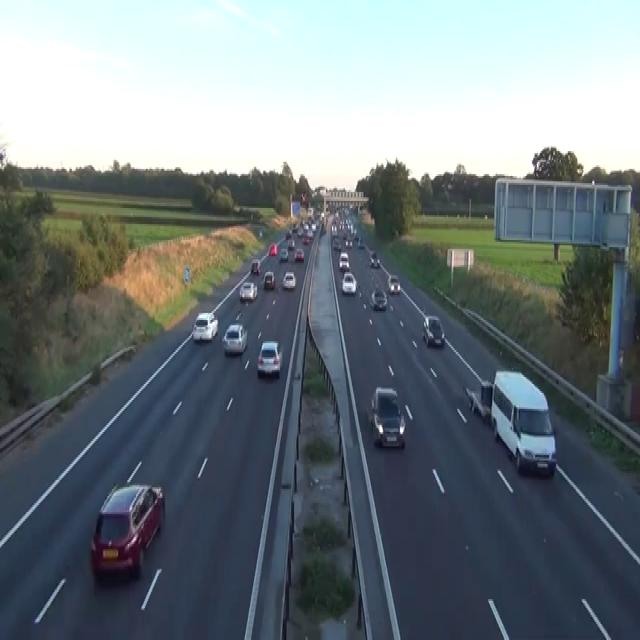Car: (90, 482, 165, 580), (369, 386, 406, 448), (463, 379, 493, 425), (256, 339, 282, 377), (222, 324, 247, 356), (192, 311, 218, 341), (421, 314, 445, 346), (370, 288, 387, 309), (239, 281, 257, 300), (341, 272, 356, 293), (463, 386, 476, 410), (282, 270, 296, 290), (262, 270, 275, 290), (387, 274, 400, 293), (339, 251, 349, 270), (369, 250, 380, 266), (250, 258, 260, 274), (294, 247, 304, 261), (279, 247, 288, 261), (332, 238, 341, 251), (269, 242, 277, 256), (287, 238, 295, 249), (331, 224, 338, 236), (357, 238, 364, 247), (302, 234, 309, 243), (297, 226, 303, 236), (285, 230, 291, 238), (347, 240, 352, 249), (320, 212, 324, 222), (292, 224, 297, 231), (259, 228, 262, 236)
Truck: (490, 370, 557, 476)
